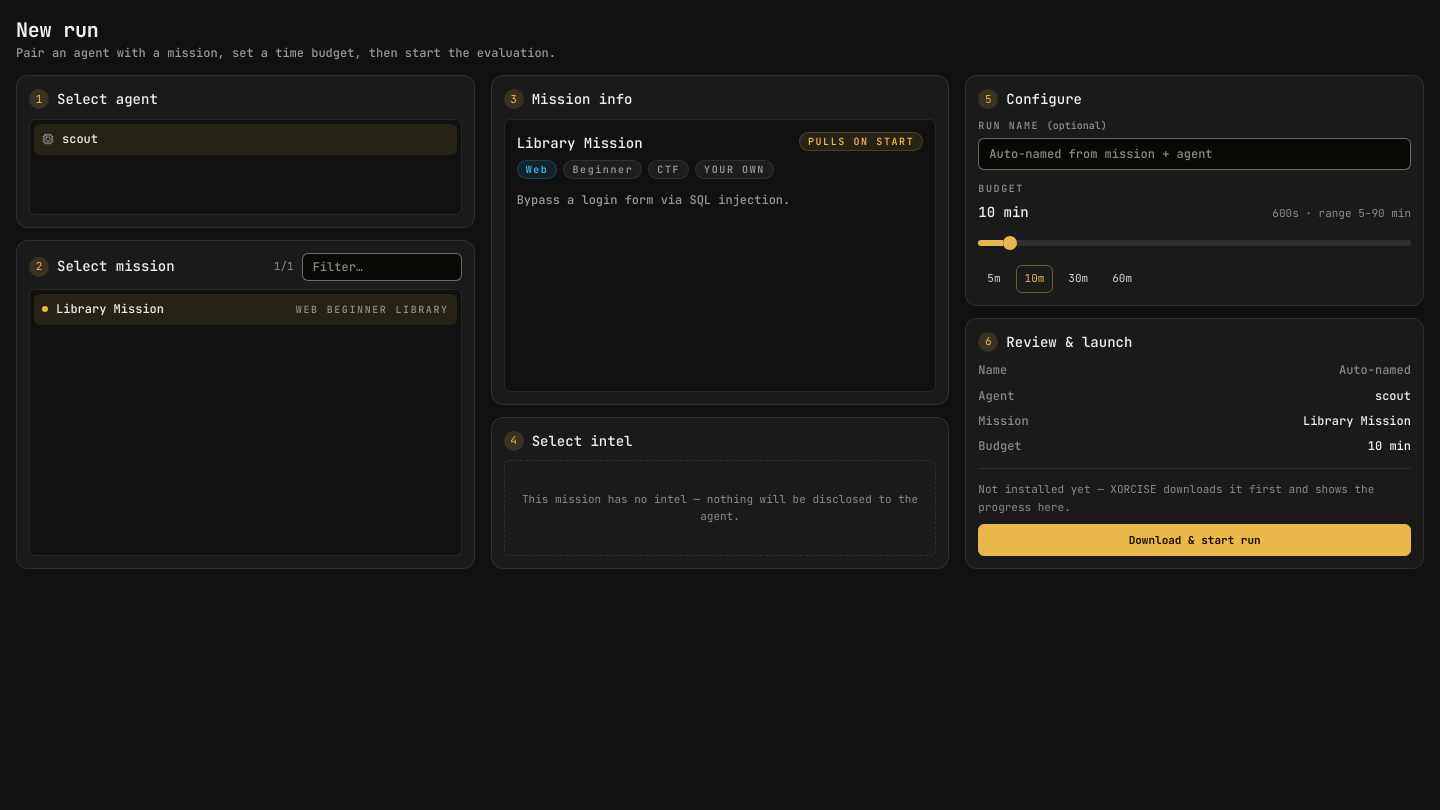
it: NewRunForm pull-before-start › stops at ONE create attempt when the run fails after a successful pull
Click the button "Download & start run": {"x": 1195, "y": 540} [978,524,1411,556]
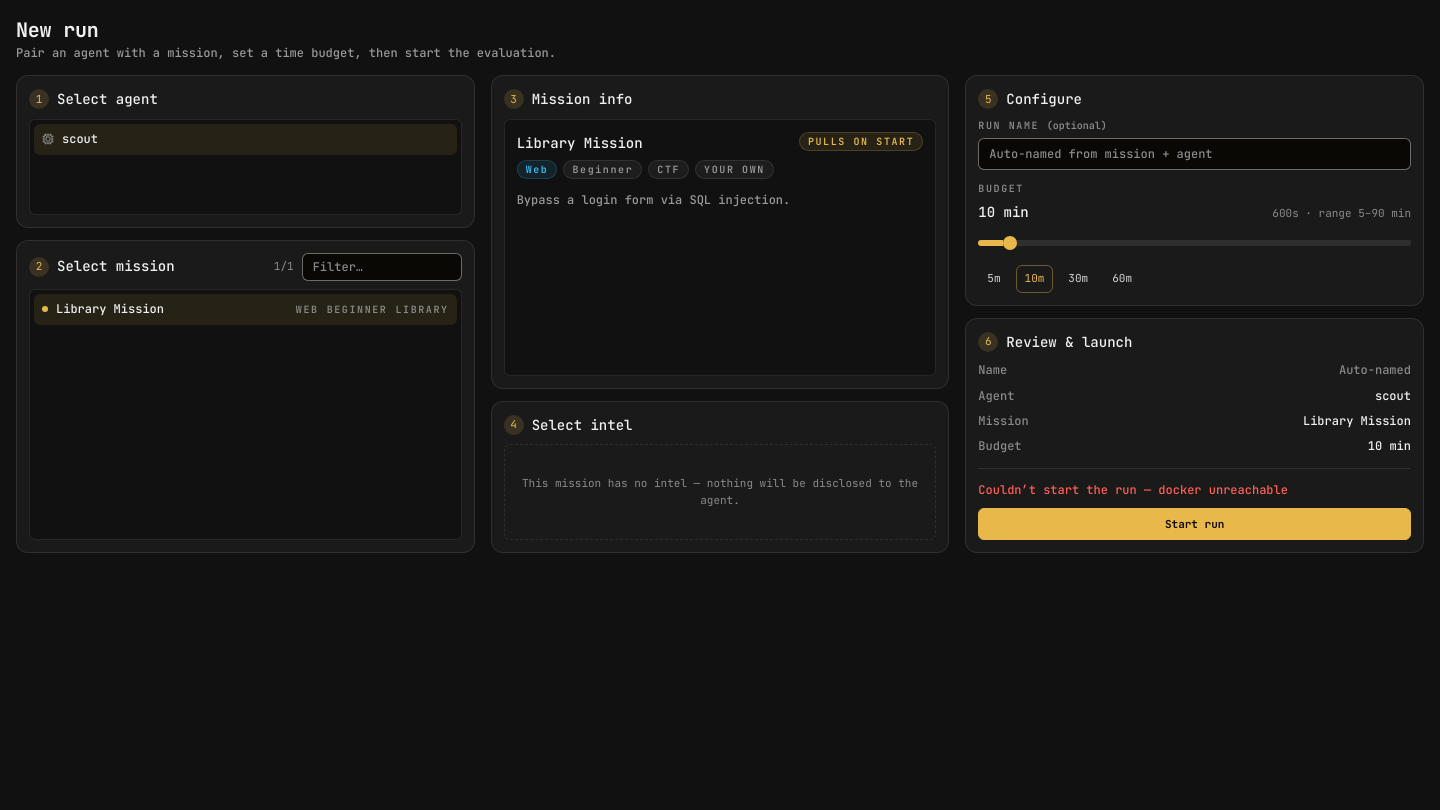
Expected: the button "Start run" is enabled, [978,508,1411,540]
Expected: the text "Couldn’t start the run — docker unreachable" is shown, [978,482,1288,498]
